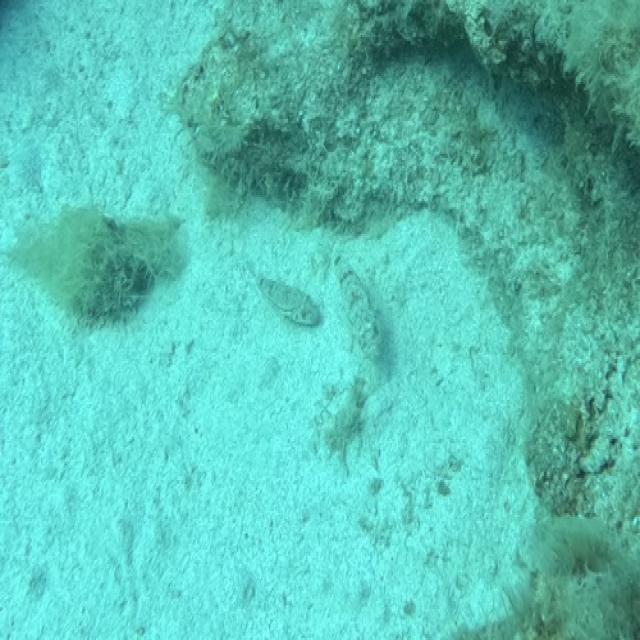Balik: (335, 258, 379, 359), (259, 275, 320, 324)
